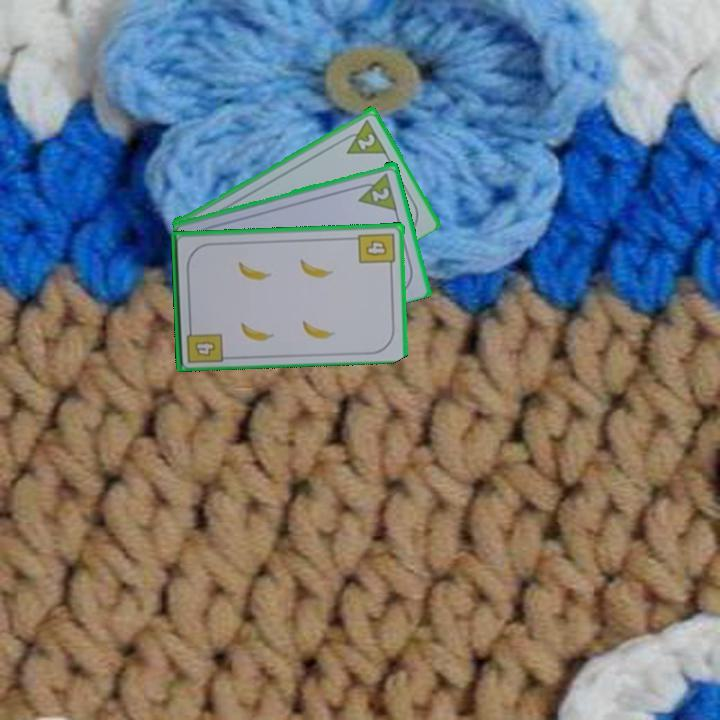2p: (352, 169, 400, 213), (354, 129, 378, 152)
4b: (356, 229, 398, 272), (191, 337, 219, 359)
